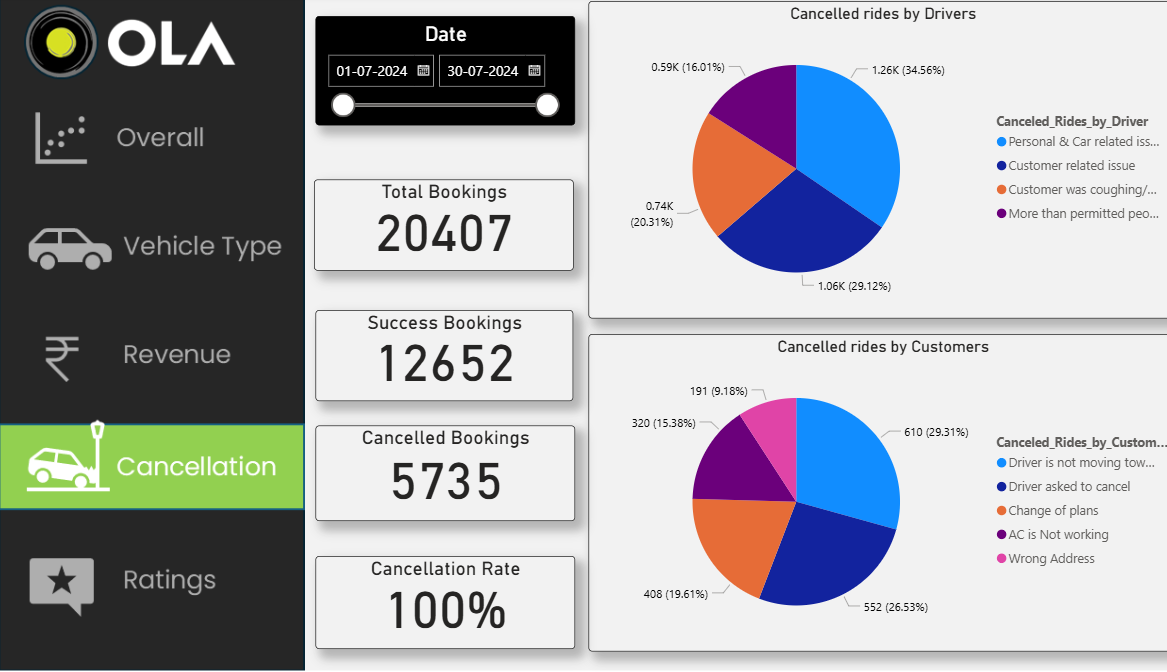

The page's visual inventory and layout, read from the dashboard file:
{"tool":"powerbi","page":{"name":"Cancellation","canvas":[1280,720],"ordinal":3},"visuals":[{"type":"actionButton","box":[0,108.2,322.9,89.1],"z":0},{"type":"actionButton","box":[0,217.9,322.9,89.1],"z":1000},{"type":"actionButton","box":[0,342,322.9,89.1],"z":2000},{"type":"actionButton","box":[1.6,586.9,322.9,89.1],"z":3000},{"type":"pieChart","title":"Cancelled rides by Drivers","fields":{"Category":["Bookings.Canceled_Rides_by_Driver"],"Y":["CountNonNull(Bookings.Canceled_Rides_by_Driver)"]},"box":[625.5,5.7,623.6,336.4],"z":4000},{"type":"pieChart","title":"Cancelled rides by Customers","fields":{"Category":["Bookings.Canceled_Rides_by_Customer"],"Y":["CountNonNull(Bookings.Canceled_Rides_by_Customer)"]},"box":[625.5,359.1,623.6,336.4],"z":5000},{"type":"slicer","title":"Date","fields":{"Values":["Bookings.Date"]},"box":[335.6,22.3,275.2,116.1],"z":6000},{"type":"card","title":"Total Bookings","fields":{"Values":["CountNonNull(Bookings.Booking_ID)"]},"box":[333.3,195.7,275.2,96.8],"z":7000},{"type":"card","title":"Success Bookings","fields":{"Values":["CountNonNull(Bookings.Booking_ID)"]},"box":[335.4,333.3,273.1,96.8],"z":8000},{"type":"card","title":"Cancelled Bookings","fields":{"Values":["CountNonNull(Bookings.Booking_ID)"]},"box":[335.4,455.8,275.2,101.1],"z":9000},{"type":"card","title":"Cancellation Rate","fields":{"Values":["Bookings.CanceledBookings"]},"box":[335.4,595.6,275.2,98.9],"z":10000}]}

Visuals, with their boxes on the page's 1280x720 design canvas (x1, y1, x2, y2). These are canvas units, not pixel positions in the 1167x672 screenshot, which may show the page scaled, cropped or inside an application window:
actionButton: box(0, 108, 323, 197)
actionButton: box(0, 218, 323, 307)
actionButton: box(0, 342, 323, 431)
actionButton: box(2, 587, 324, 676)
"Cancelled rides by Drivers" pieChart: box(626, 6, 1249, 342)
"Cancelled rides by Customers" pieChart: box(626, 359, 1249, 696)
"Date" slicer: box(336, 22, 611, 138)
"Total Bookings" card: box(333, 196, 608, 292)
"Success Bookings" card: box(335, 333, 608, 430)
"Cancelled Bookings" card: box(335, 456, 611, 557)
"Cancellation Rate" card: box(335, 596, 611, 694)
